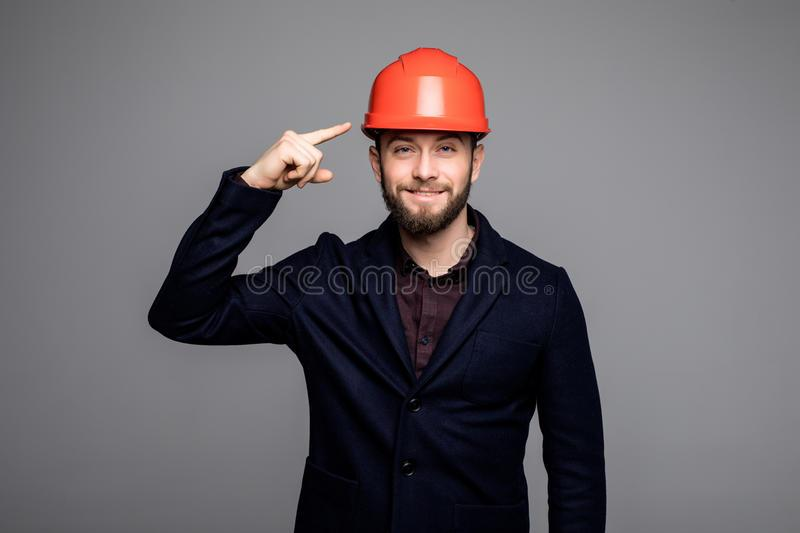helmet: (367, 49, 494, 140)
